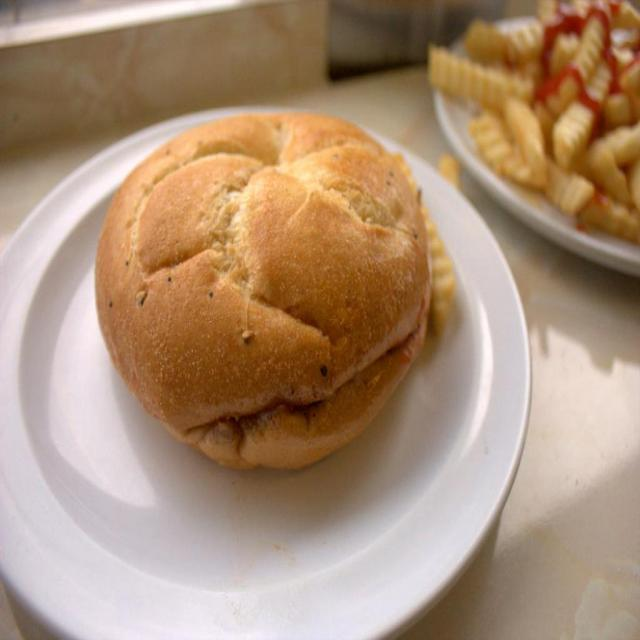French fries: (429, 6, 639, 224)
